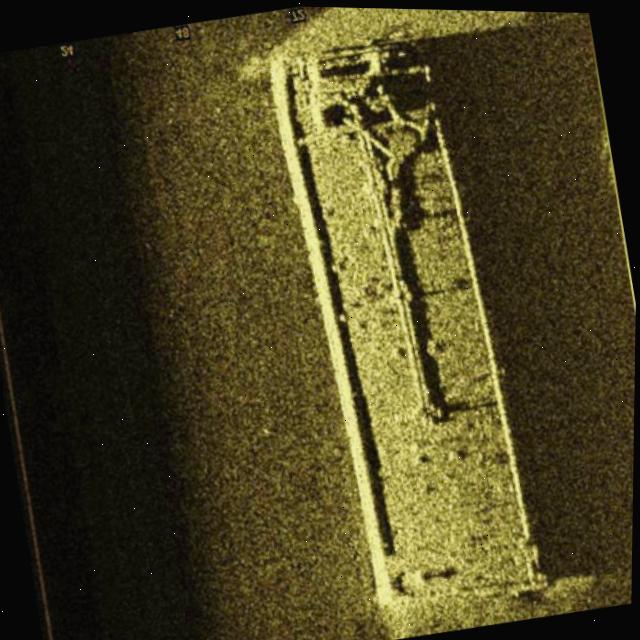shipwreck: (272, 21, 552, 622)
